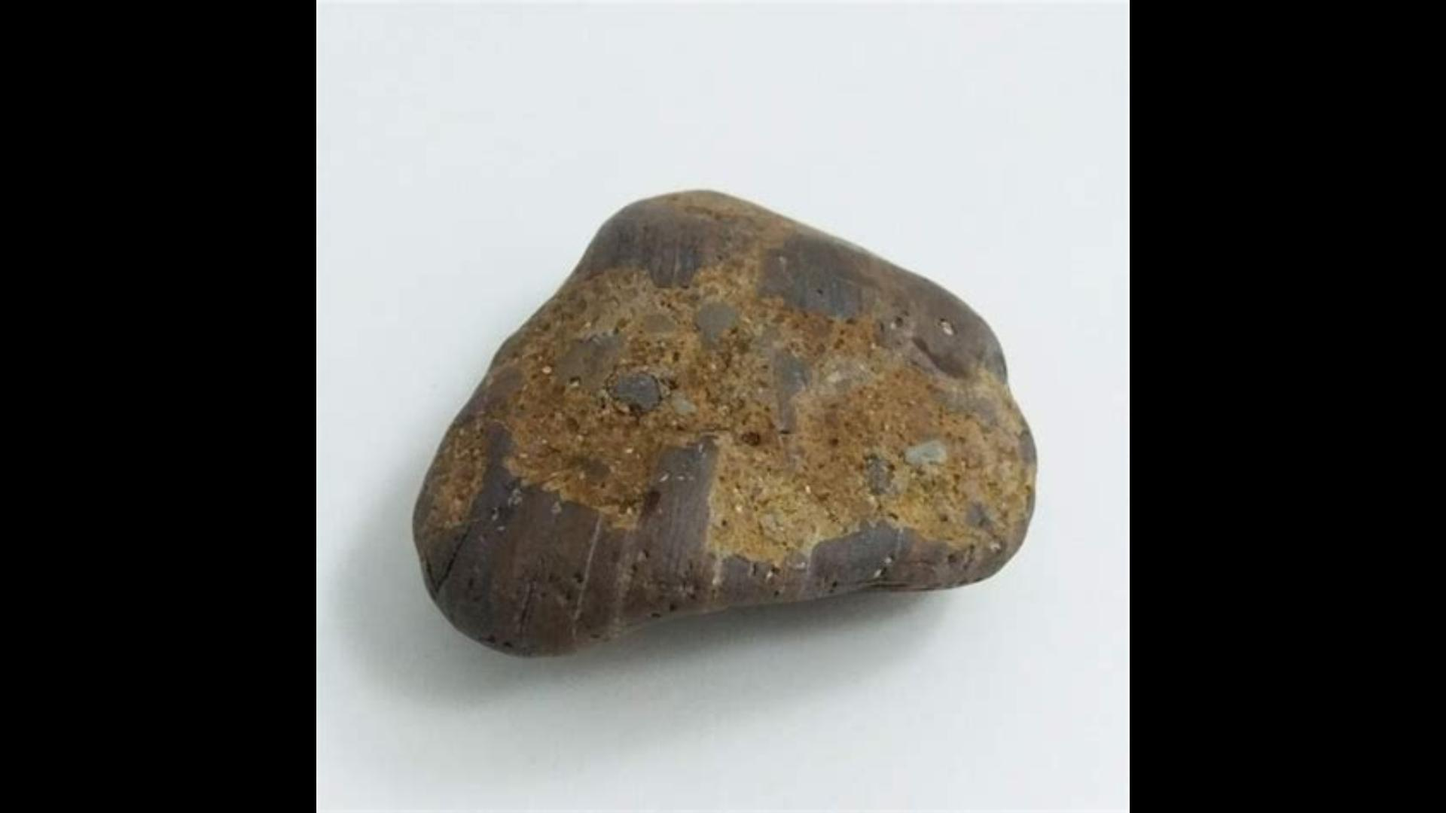rock: (412, 192, 1034, 652)
